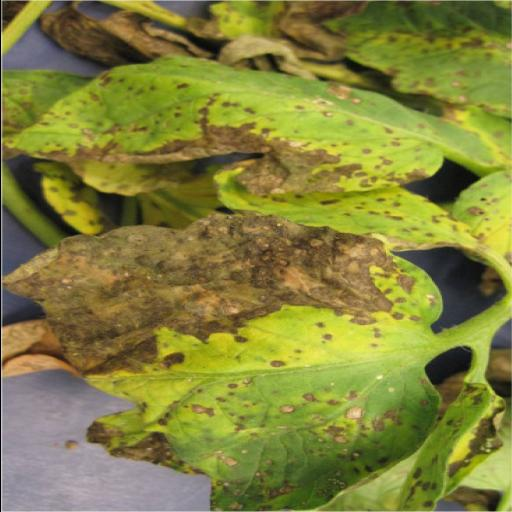Septoria: (2, 212, 446, 512), (0, 58, 478, 195), (205, 164, 512, 254), (321, 0, 512, 119)
